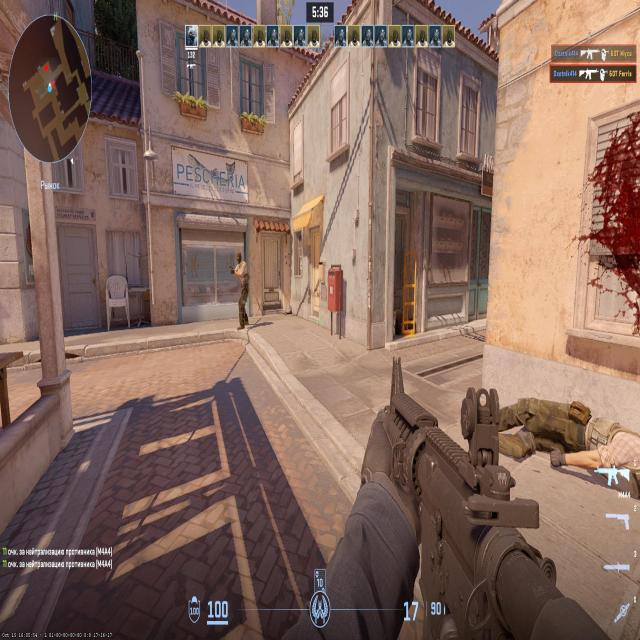T: (239, 253, 248, 321)
T_heat: (239, 262, 243, 270)
